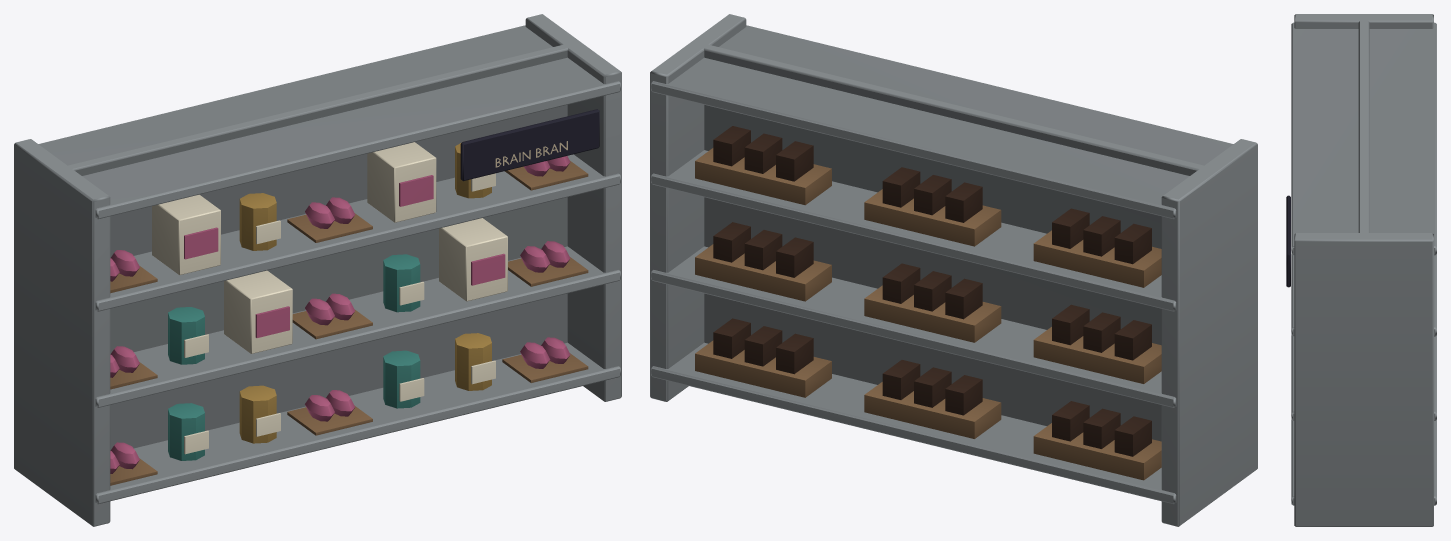
The model's file is shelf_grocery.glb.
The picture shows the model from 3 angles, left to right: view 1: azimuth 30°, elevation 25°; view 2: azimuth 150°, elevation 25°; view 3: azimuth 270°, elevation 25°; orthographic projection. The views are drawn at different scales.
Parts seen in each view (by area): view 1: shelf_grocery, brand; view 2: shelf_grocery; view 3: shelf_grocery, brand.
Part boxes in pixels (left/top/right/bottom): shelf_grocery: left=14, top=14, right=621, bottom=526; brand: left=460, top=109, right=599, bottom=181; shelf_grocery: left=650, top=14, right=1257, bottom=526; shelf_grocery: left=1291, top=14, right=1436, bottom=526; brand: left=1286, top=195, right=1290, bottom=287.
Bounding box in the file's own units: 2.88 × 1.7 × 0.809.
